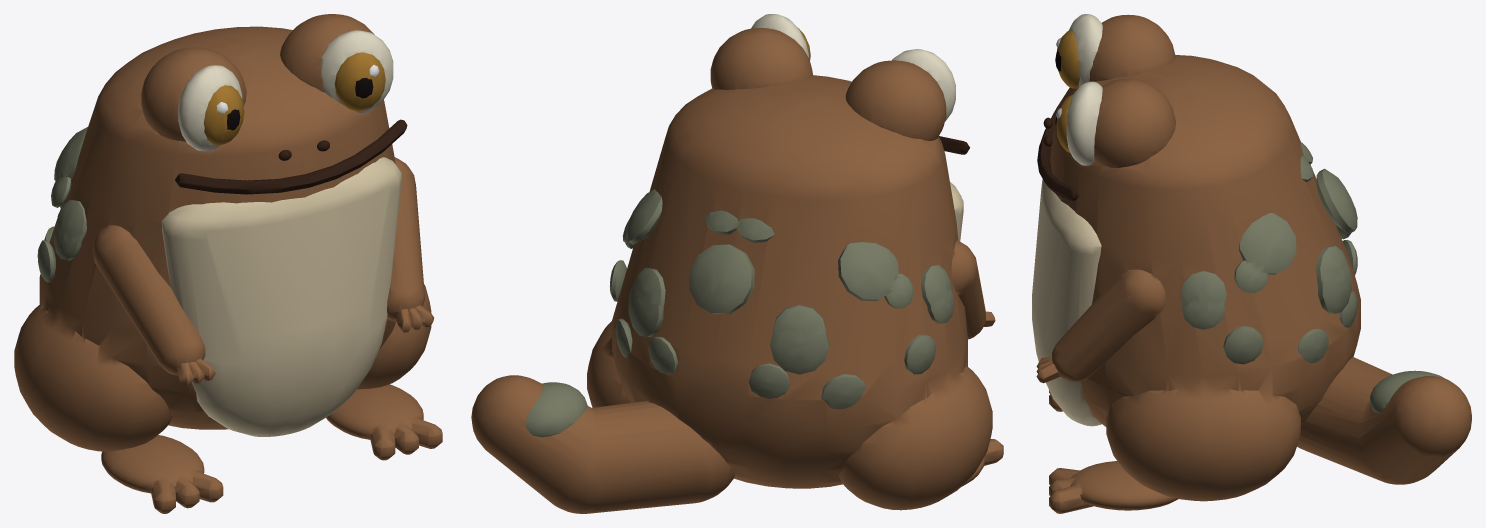
File: mudbub.glb
3 views of the same model, side by side, from view 1: azimuth 30°, elevation 25°; view 2: azimuth 150°, elevation 25°; view 3: azimuth 270°, elevation 25° (orthographic). The views are drawn at different scales.
Visible parts, largest first — view 1: creature; view 2: creature; view 3: creature.
Part boxes in pixels (x1,y1,x2,y2): creature: [14, 14, 442, 513]; creature: [471, 14, 1003, 513]; creature: [1032, 14, 1471, 513].
Size of the model in its own units: 0.9841 by 1 by 0.9973.
